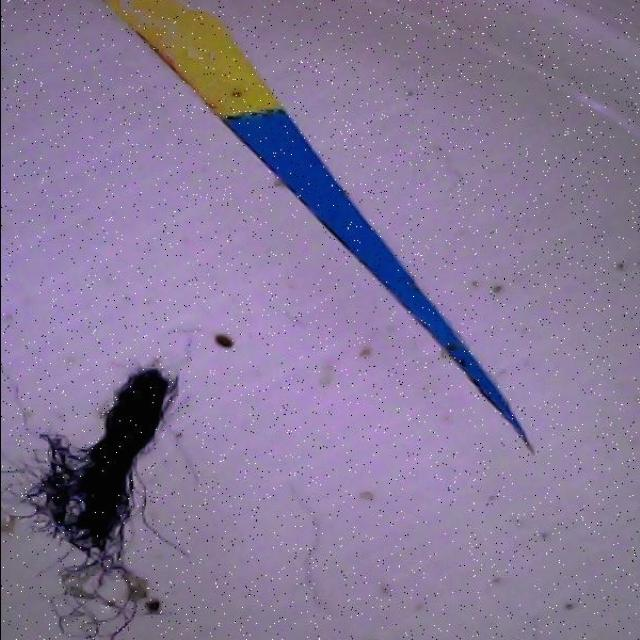Fibre: (0, 357, 214, 640)
